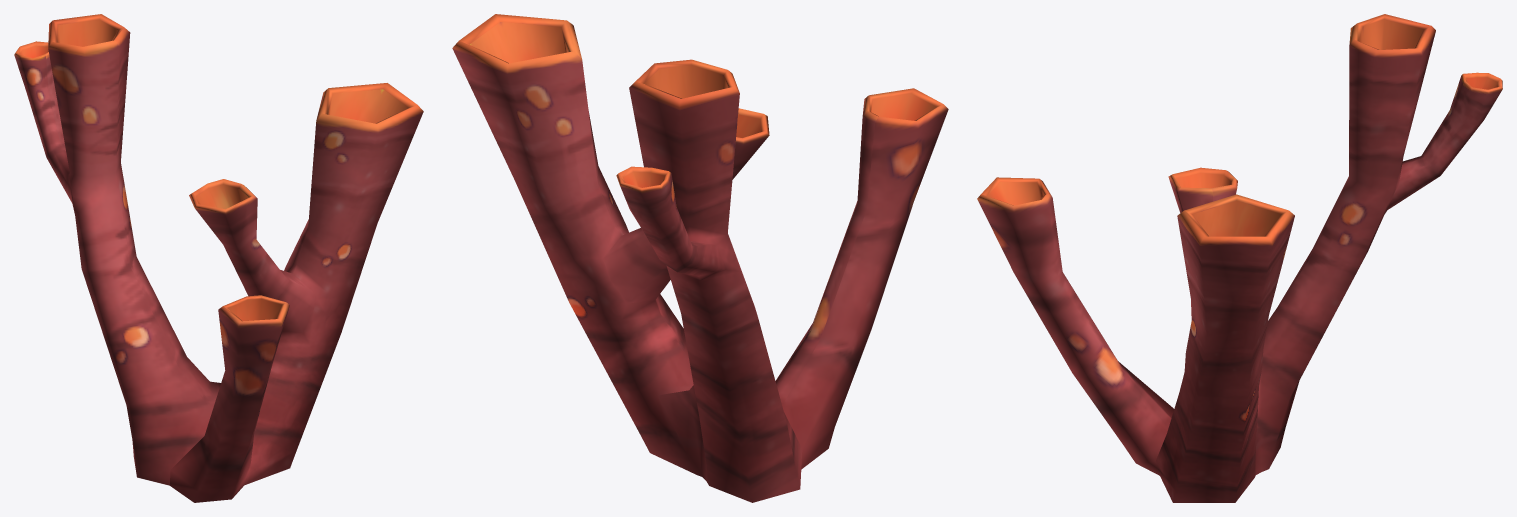
Rendered from M_TubesCoral.obj.
The picture shows the model from 3 angles, left to right: view 1: azimuth 30°, elevation 25°; view 2: azimuth 150°, elevation 25°; view 3: azimuth 270°, elevation 25°; orthographic projection. The views are drawn at different scales.
Visible parts, largest first — view 1: pCylinder70; view 2: pCylinder70; view 3: pCylinder70.
Part boxes in pixels (bbox=[...]): pCylinder70: bbox=[14, 14, 423, 502]; pCylinder70: bbox=[452, 14, 948, 502]; pCylinder70: bbox=[977, 14, 1502, 502].
Bounding box in the file's own units: 2.16 × 2.76 × 3.17.
